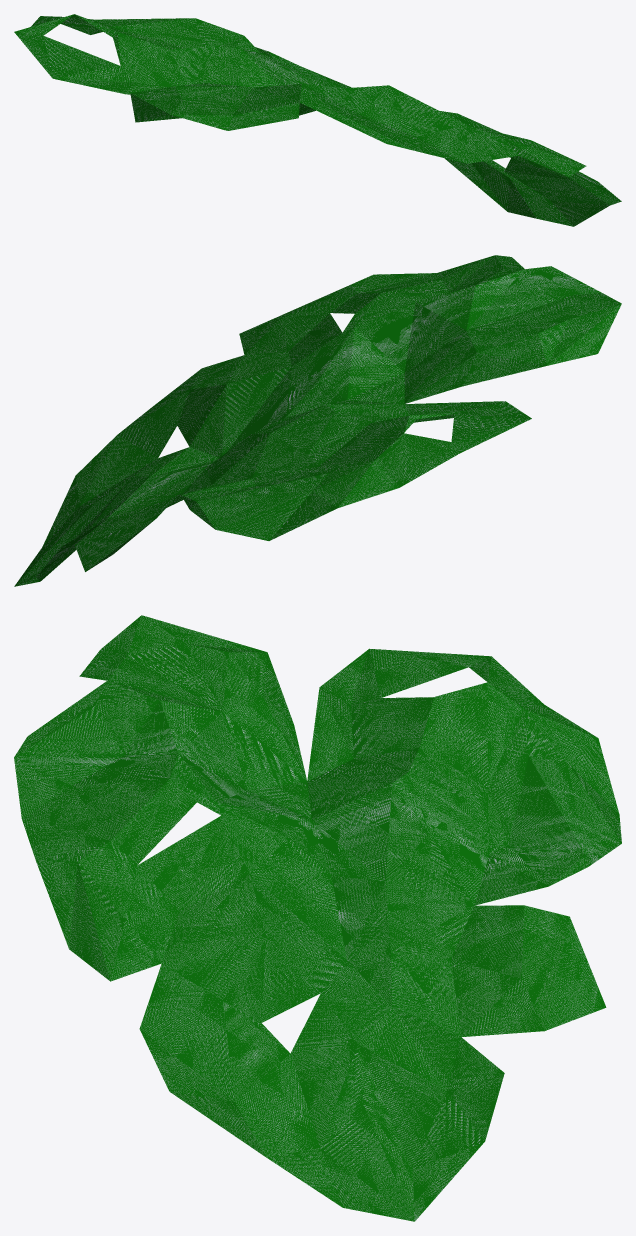
File: Vegetation_Modular_New_Tropical_Leaf_01.FBX
The picture shows the model from 3 angles, top to bottom: view 1: azimuth 30°, elevation 25°; view 2: azimuth 150°, elevation 25°; view 3: azimuth 270°, elevation 25°; orthographic projection. The views are drawn at different scales.
Visible parts, largest first — view 1: Vegetation_Modular_New_Tropical_Leaf_01; view 2: Vegetation_Modular_New_Tropical_Leaf_01; view 3: Vegetation_Modular_New_Tropical_Leaf_01.
Part boxes in pixels (x1=…): Vegetation_Modular_New_Tropical_Leaf_01: x1=14, y1=14, x2=621, y2=226; Vegetation_Modular_New_Tropical_Leaf_01: x1=14, y1=255, x2=621, y2=586; Vegetation_Modular_New_Tropical_Leaf_01: x1=14, y1=615, x2=621, y2=1221.
Size of the model in its own units: 1691 by 999 by 1597.
